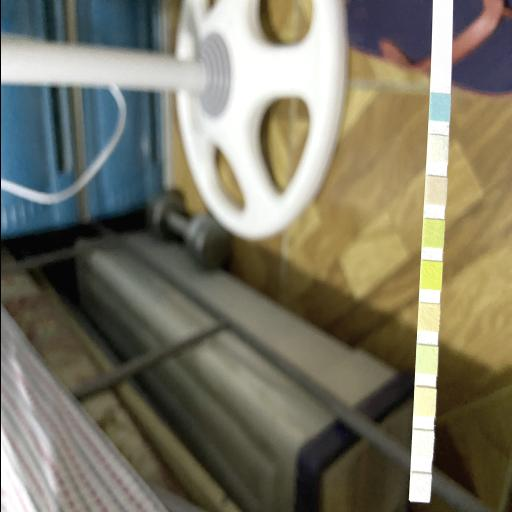Bilirubin: (428, 136, 447, 164)
Blood: (420, 262, 441, 288)
Glucose: (430, 95, 448, 120)
Ketone: (425, 180, 445, 204)
Leukocytes: (410, 474, 430, 502)
Nitrite: (412, 430, 432, 458)
Protein: (416, 347, 436, 373)
SpGravity: (422, 222, 443, 246)
Urobilinogen: (414, 388, 434, 415)
pH: (418, 304, 438, 330)
strip: (408, 1, 453, 503)
